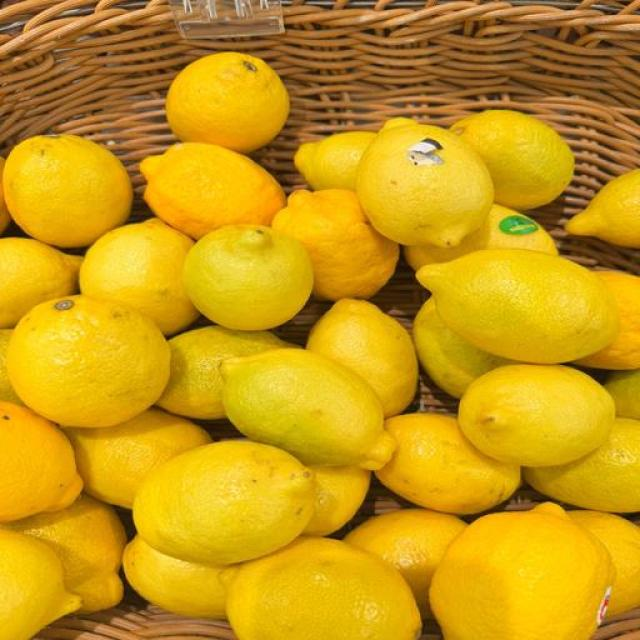organic: (0, 0, 639, 273), (499, 215, 538, 234)
